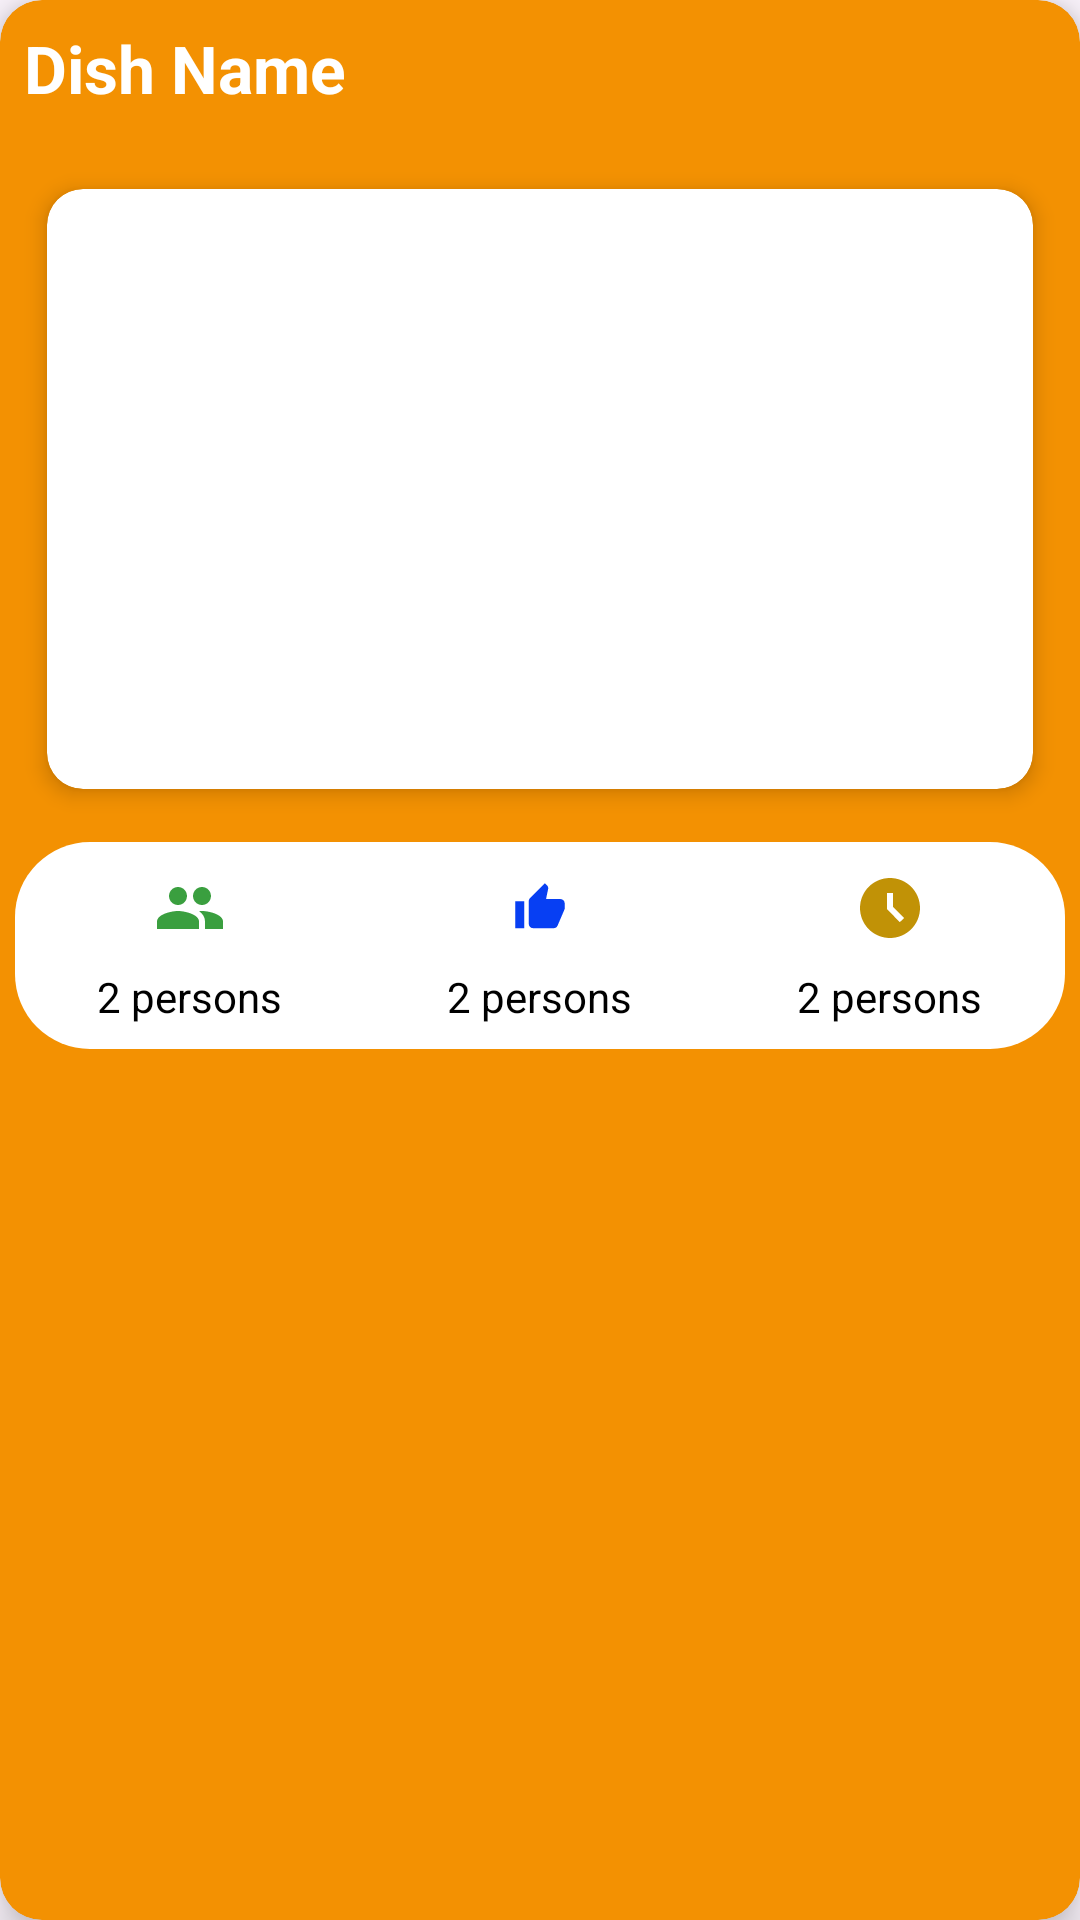

Named icons in this screenshot (1080×1920) and their centers, point (x, y):
likes: point (540, 906)
servings: point (190, 908)
time: point (890, 908)
